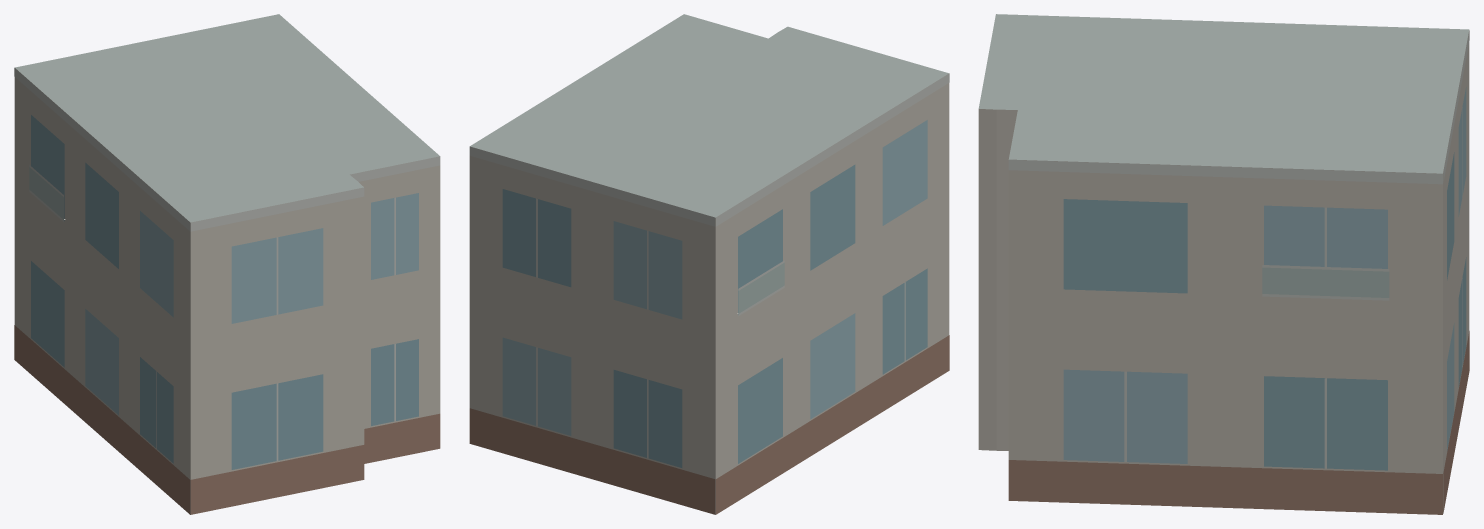
The model's file is survey-upis-32916201.glb.
3 views of the same model, side by side, from view 1: azimuth 30°, elevation 25°; view 2: azimuth 150°, elevation 25°; view 3: azimuth 270°, elevation 25° (orthographic). The views are drawn at different scales.
Visible parts, largest first — view 1: survey-upis-32916201.tmp; view 2: survey-upis-32916201.tmp; view 3: survey-upis-32916201.tmp.
Part boxes in pixels (box(x1,y1,x2,y2)): survey-upis-32916201.tmp: box(14, 14, 440, 514); survey-upis-32916201.tmp: box(469, 14, 949, 514); survey-upis-32916201.tmp: box(978, 14, 1469, 514).
Bounding box in the file's own units: 7.84 × 7.8 × 10.18.
